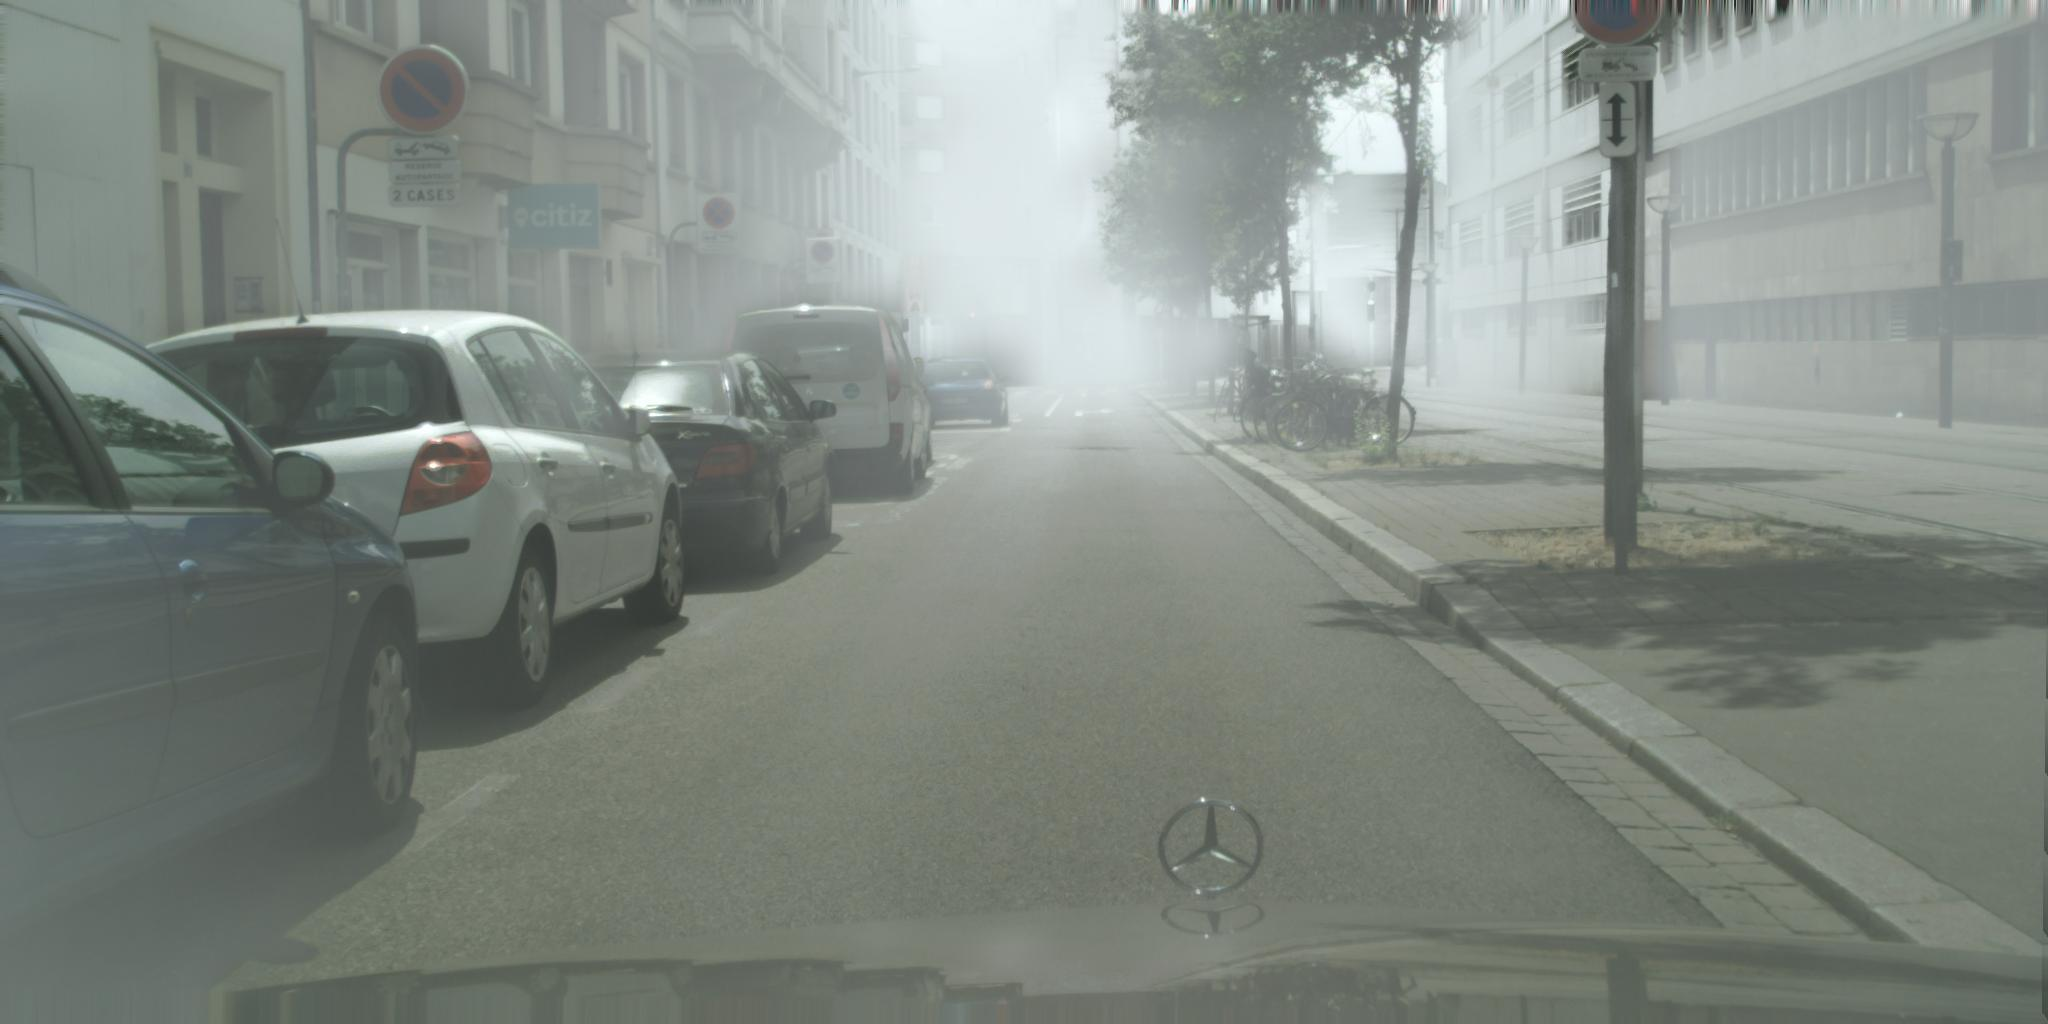bicycle: (1273, 359, 1418, 452), (1213, 364, 1254, 423)
car: (1, 260, 421, 940), (101, 219, 686, 701), (566, 302, 839, 573), (724, 303, 927, 494), (922, 358, 1014, 428), (899, 370, 939, 462)
